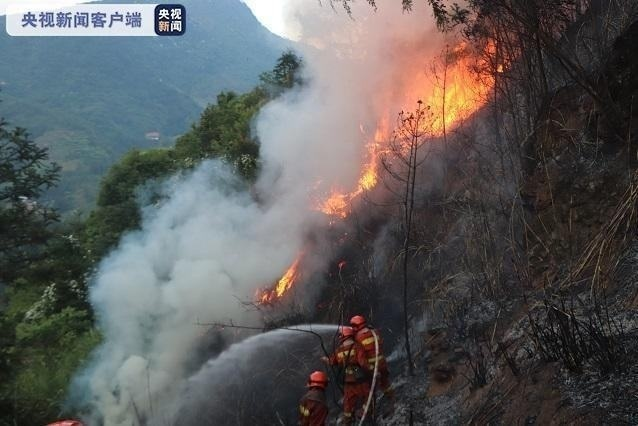fire: (314, 35, 497, 219), (315, 166, 378, 220), (253, 255, 302, 302)
